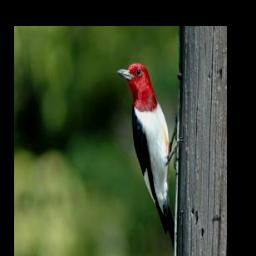Woodpecker: (116, 61, 187, 256)
